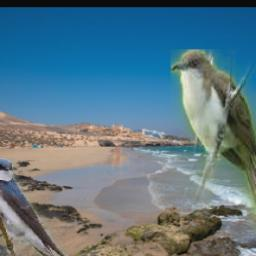Cuckoo: (171, 49, 256, 247)
Swallow: (0, 158, 70, 256)
